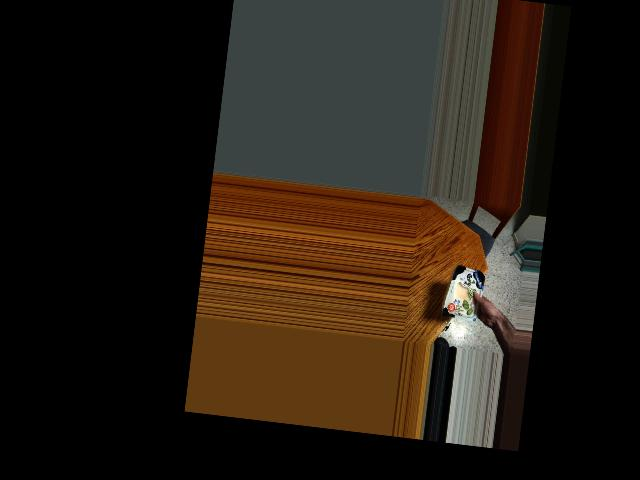cheese: (447, 265, 484, 318)
